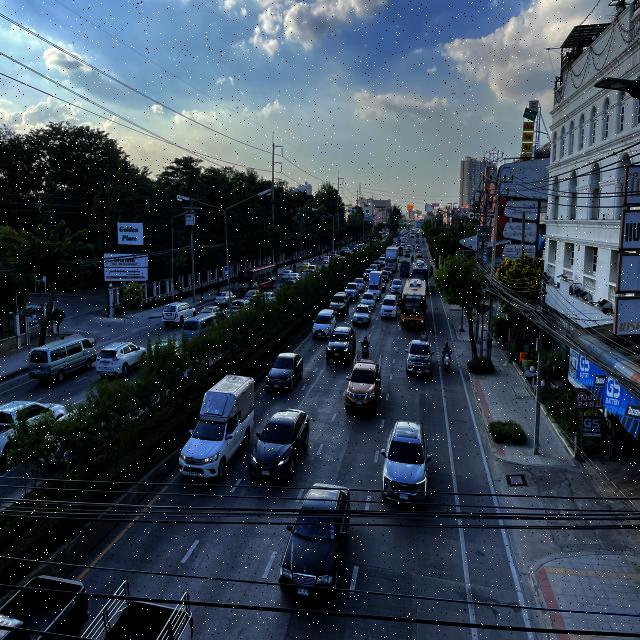bike: (441, 340, 452, 372), (360, 336, 370, 360), (388, 273, 394, 287), (398, 291, 402, 310)
bus: (401, 278, 427, 328), (411, 260, 428, 293)
car: (249, 407, 311, 485), (381, 419, 432, 509), (265, 351, 304, 392), (404, 332, 435, 379), (326, 324, 356, 364), (312, 309, 337, 339), (352, 304, 372, 327), (360, 292, 376, 309), (391, 278, 403, 294)
truck: (177, 374, 255, 482), (344, 353, 382, 415), (366, 271, 383, 301), (380, 294, 398, 320), (385, 246, 399, 273), (399, 260, 411, 276)
